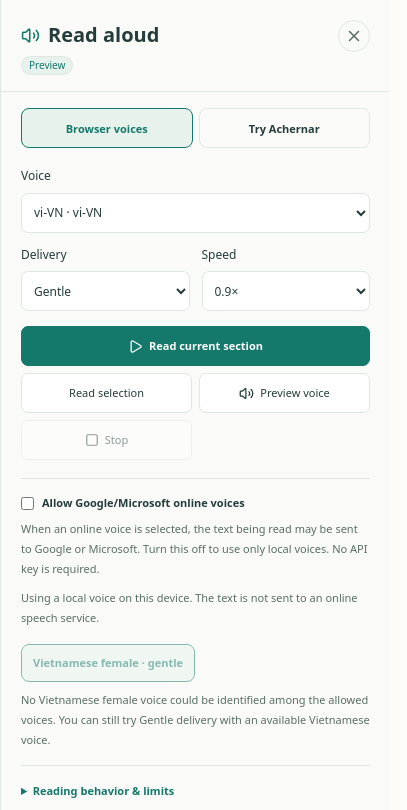
Test: read aloud panel › reads the selected local voice, pauses/resumes and stops without changing book position
Click the button "Read current section".
click(196, 346)  # box [21, 326, 370, 366]
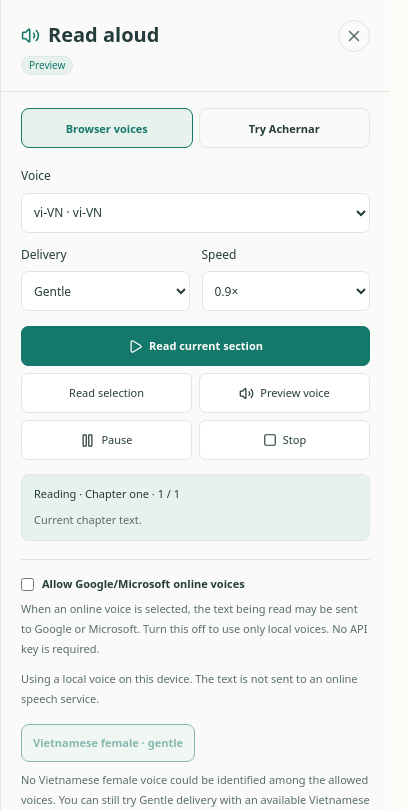
Expected: the text "Current chapter text." is shown, [34, 512, 142, 527]
Click the button "Pause".
click(106, 440)  # box [21, 420, 192, 460]
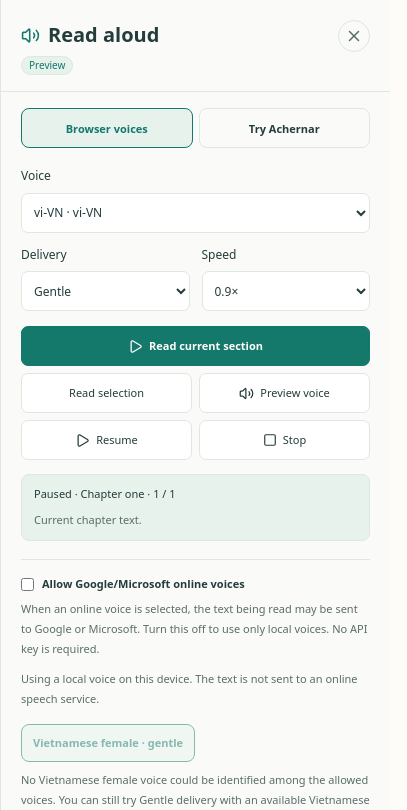
Click the button "Resume".
click(106, 440)  # box [21, 420, 192, 460]
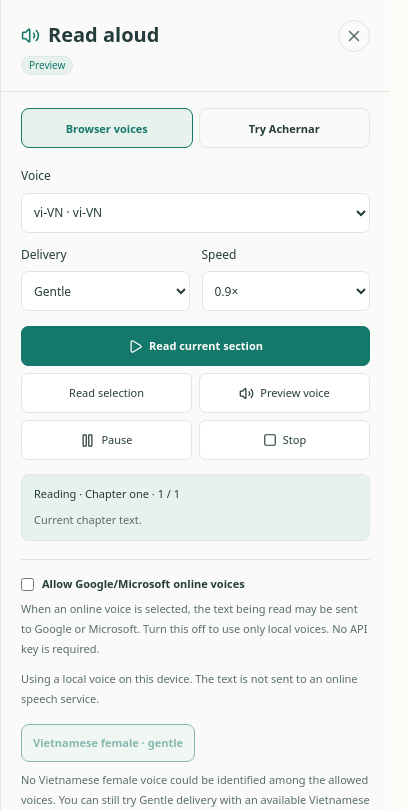
Expected: the button "Pause" is shown, [21, 420, 192, 460]
Click the button "Stop".
click(284, 440)  # box [199, 420, 370, 460]
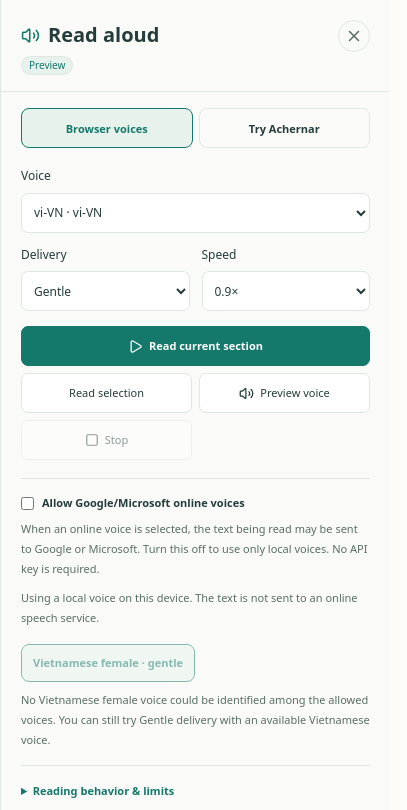
Expected: the button "Pause" is gone
